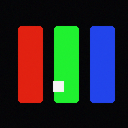1 square: (53, 81, 63, 91)
